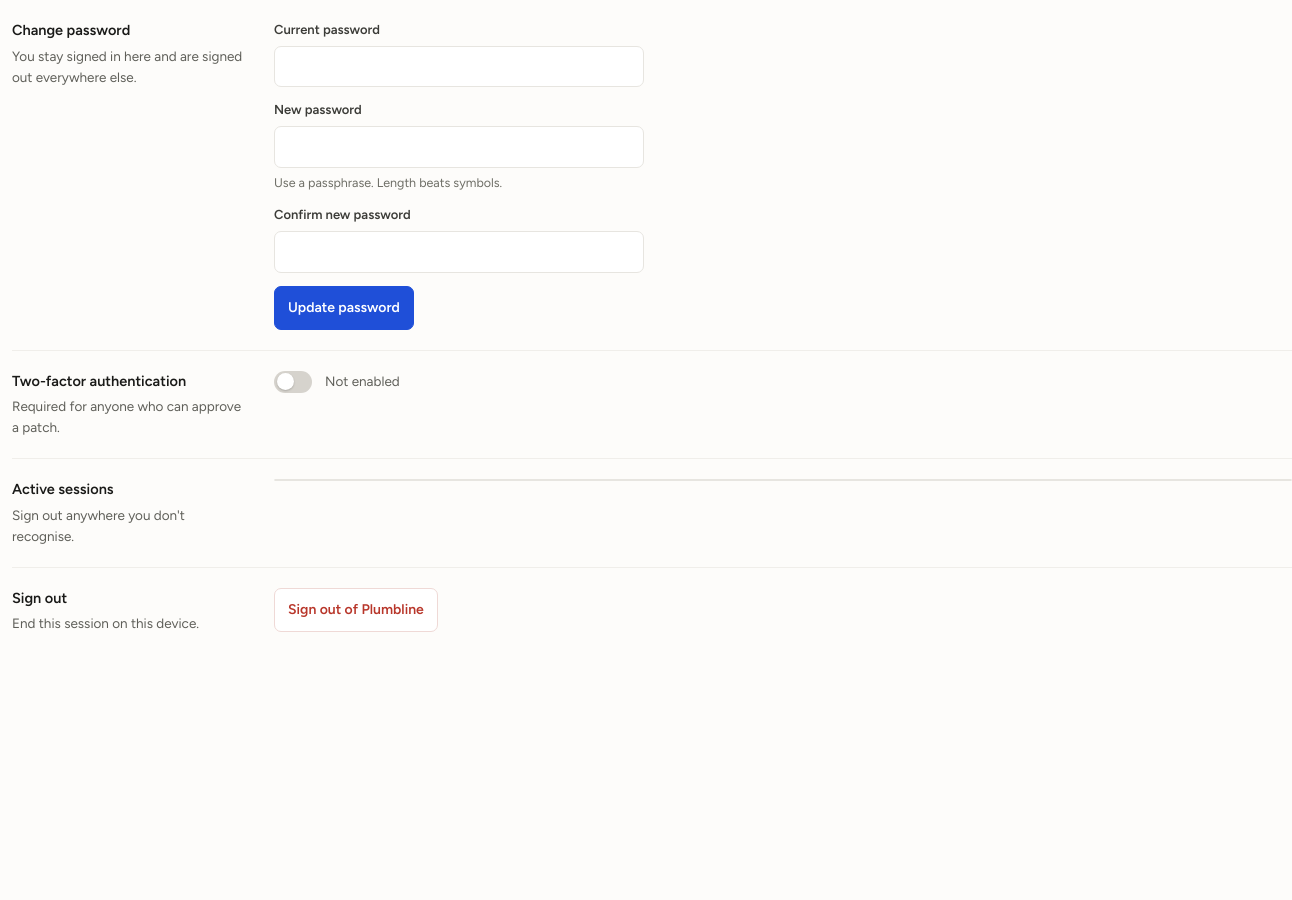
a wrong password confirmation is caught before any request is sent
The image size is (1292, 900).
Type "correct horse battery" into the password field labelled "Current password" at (459, 66), box [274,46,644,87]
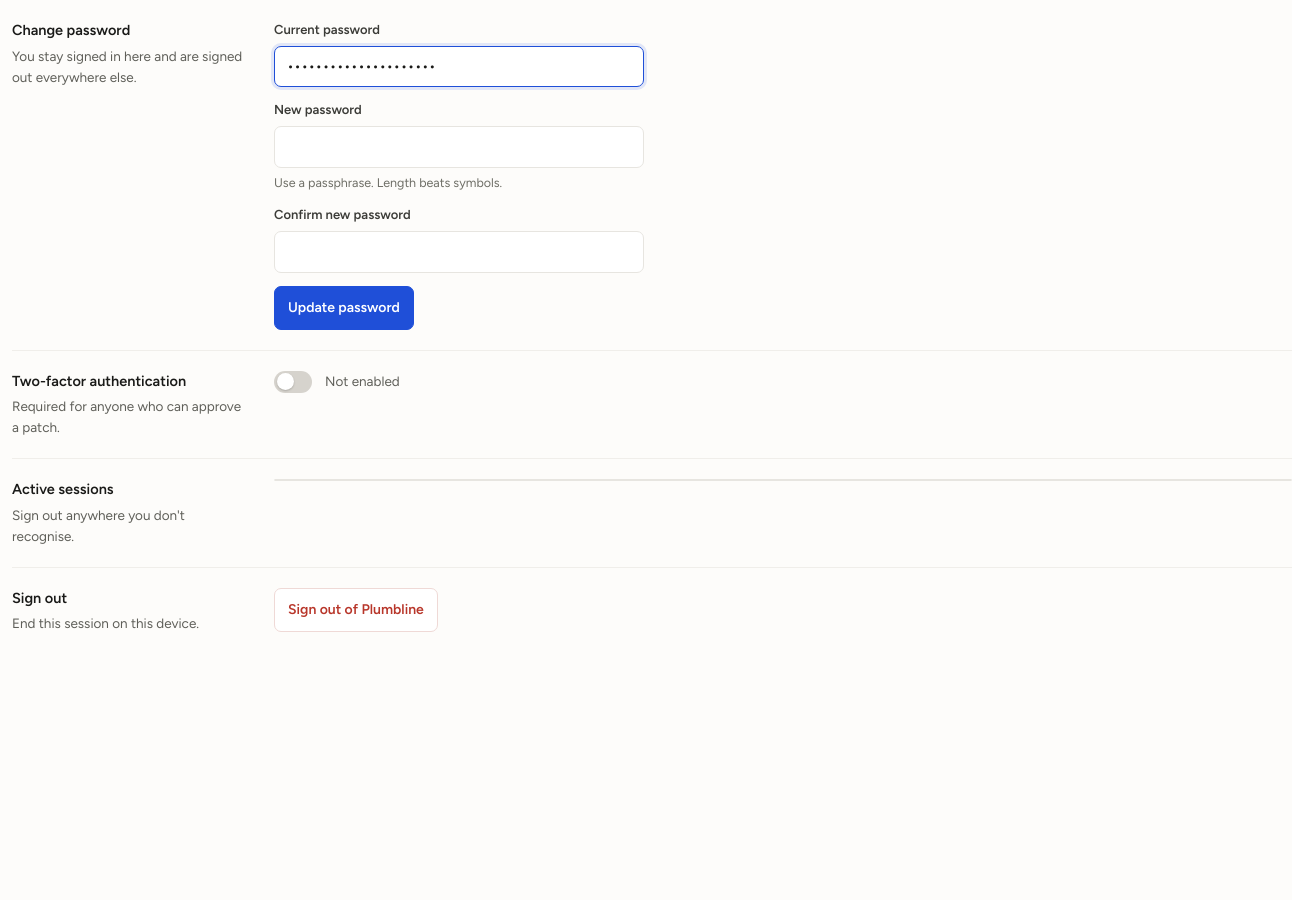
Type "a brand new passphrase" into the password field labelled "New password" at (459, 147), box [274,126,644,168]
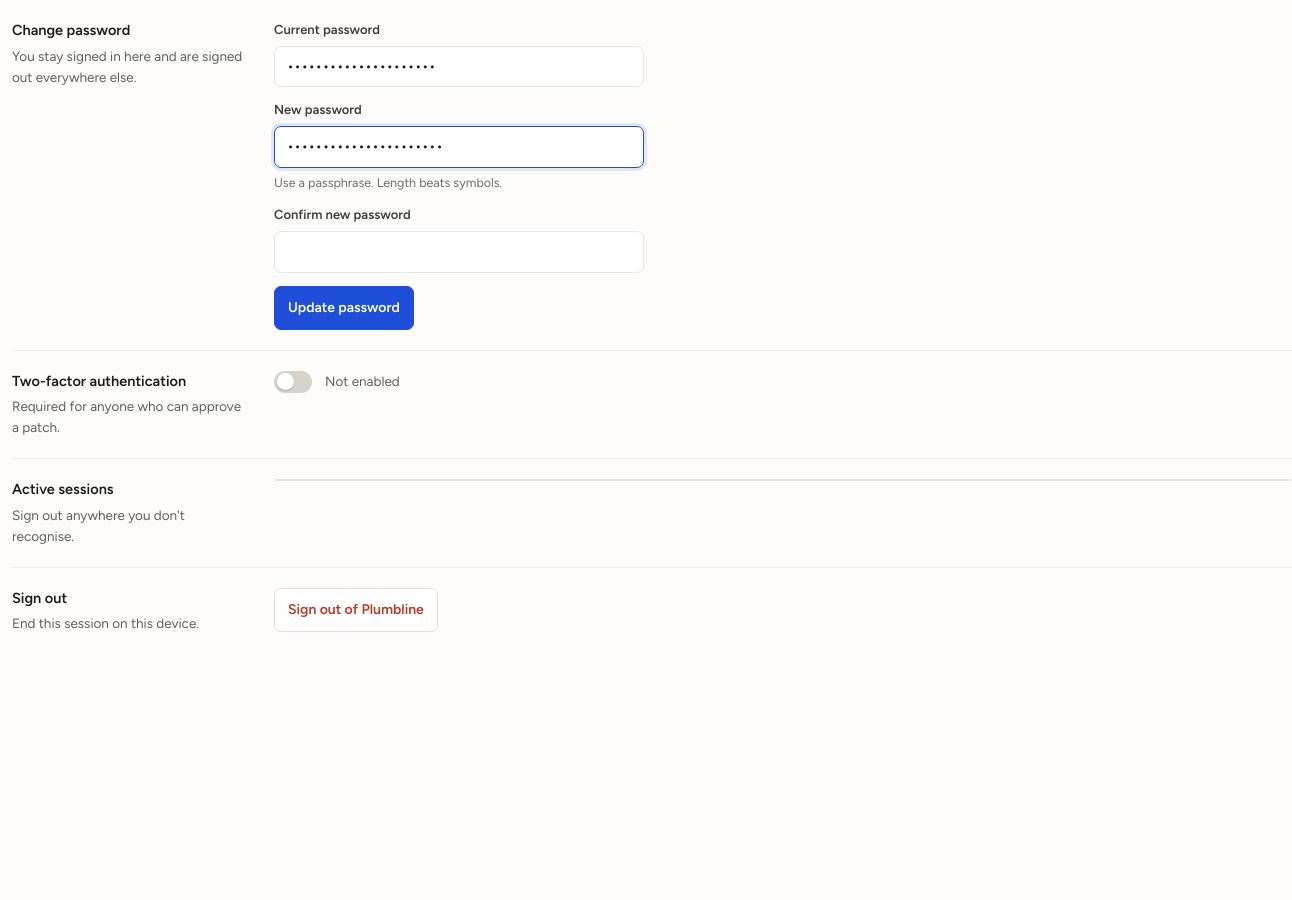
Type "does not match" into the password field labelled "Confirm new password" at (459, 252), box [274,231,644,273]
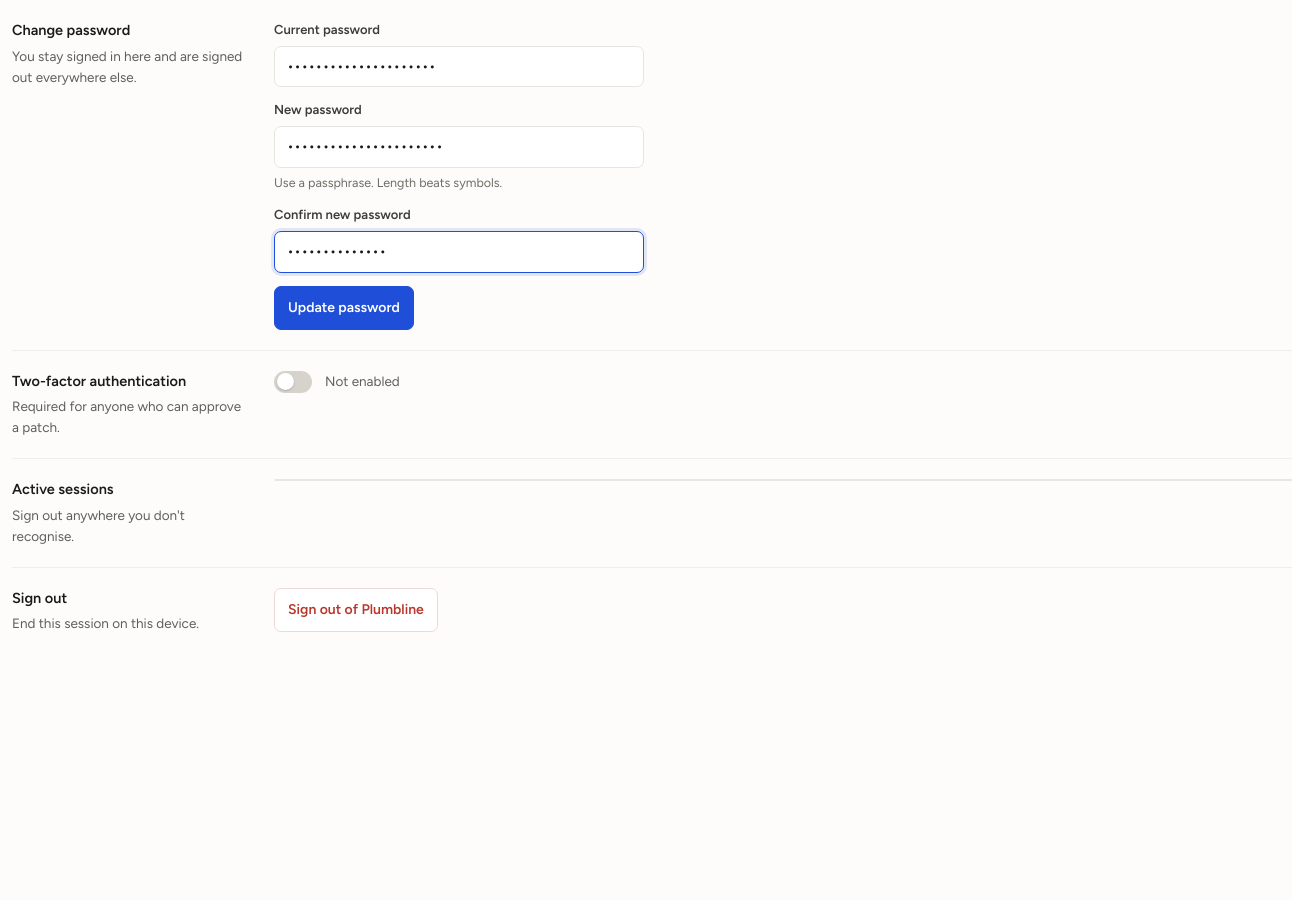
Click the button "Update password" at (344, 308), box [274,286,414,330]
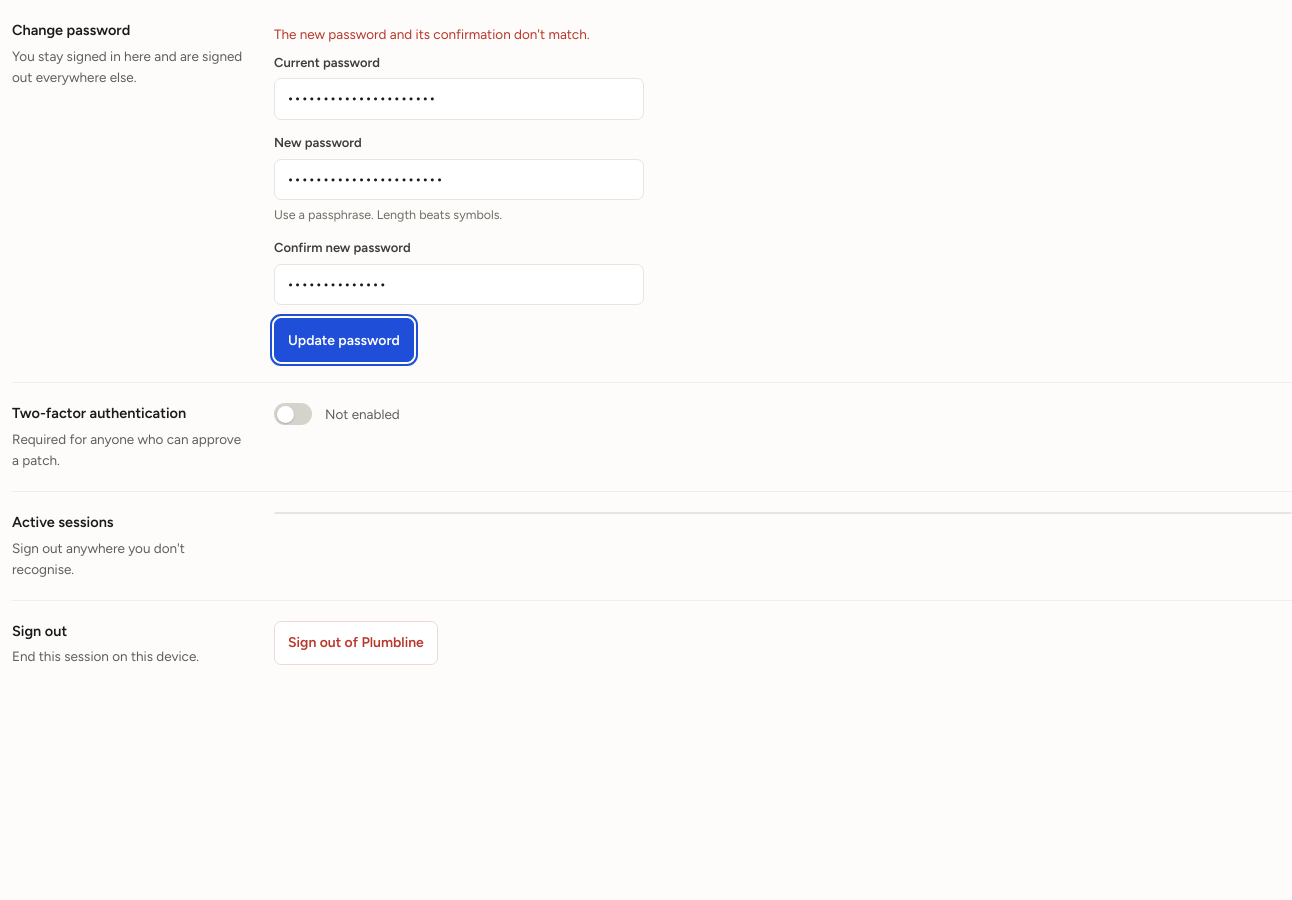
Result: the text "The new password and its confirmation don't match." is shown at [274,26,590,42]
